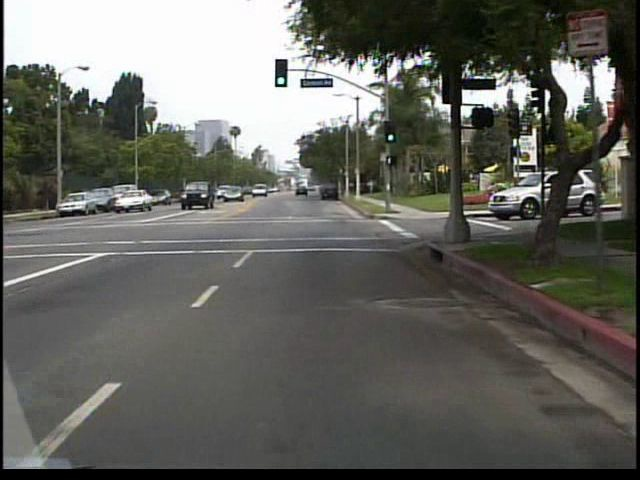person: (359, 175, 368, 199), (369, 175, 377, 195)
